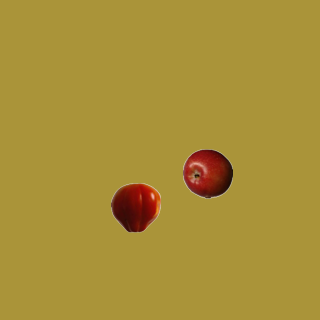Apple Braeburn: (182, 148, 232, 198)
Tomato 1: (110, 182, 160, 232)
